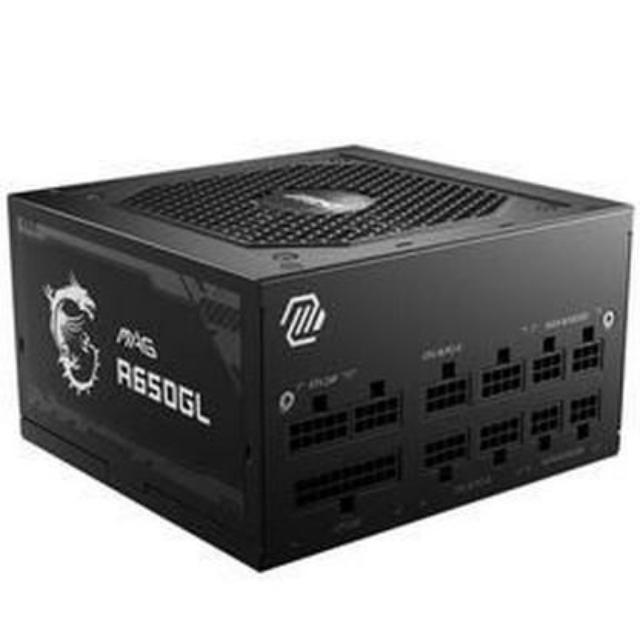PSU: (0, 131, 640, 571)
